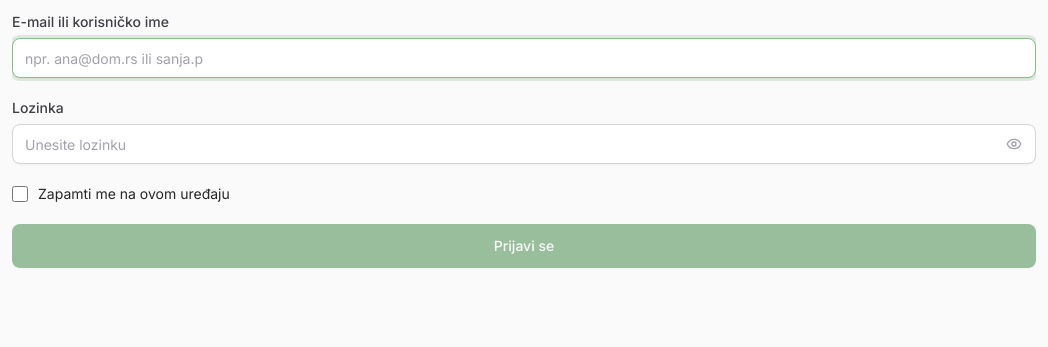
Test: SignInForm › pogrešni podaci: poruka servera (ista za nepostojećeg korisnika i pogrešnu lozinku)
Type "ana@dom.rs" into the field labelled "E-mail ili korisničko ime" at (524, 58), box 12,38 -> 1036,78
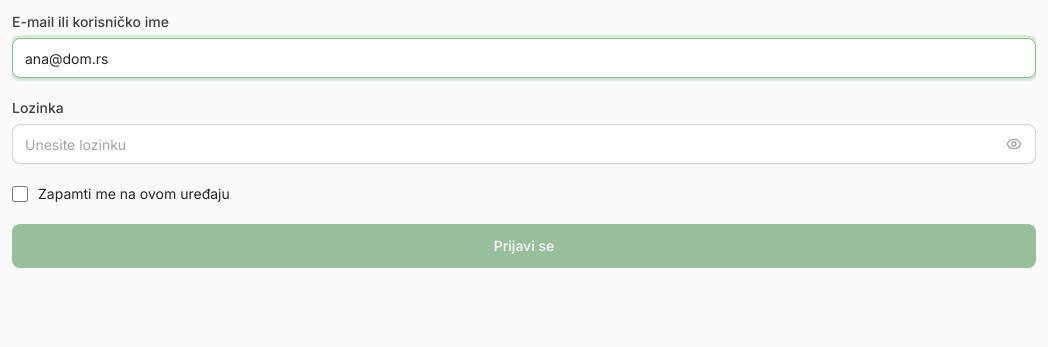
Type "tajna" into the password field labelled "Lozinka" at (524, 144), box 12,124 -> 1036,164
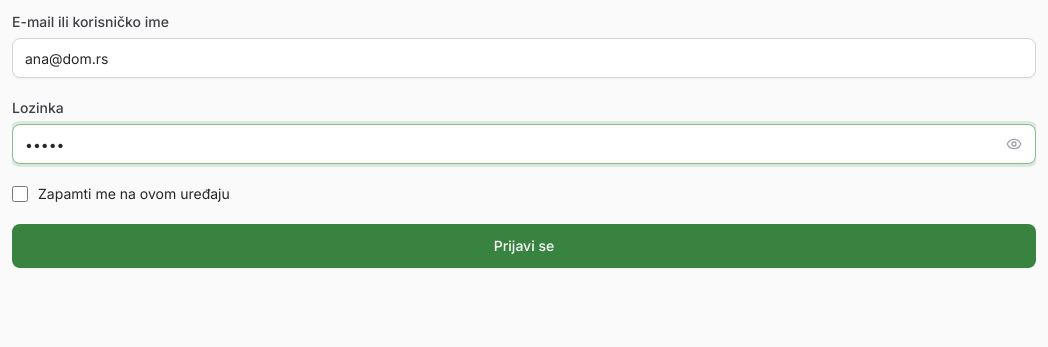
Click the button "Prijavi se" at (524, 246), box 12,224 -> 1036,268
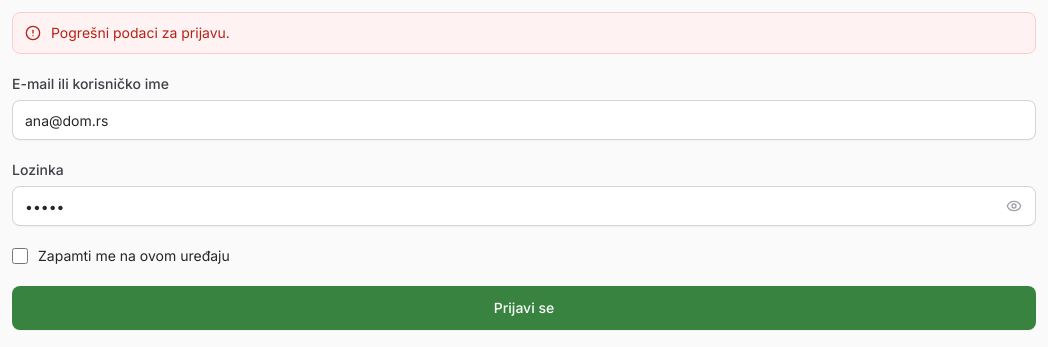
Now the message reads "Pogrešni podaci za prijavu.", box 51,24 -> 230,41
